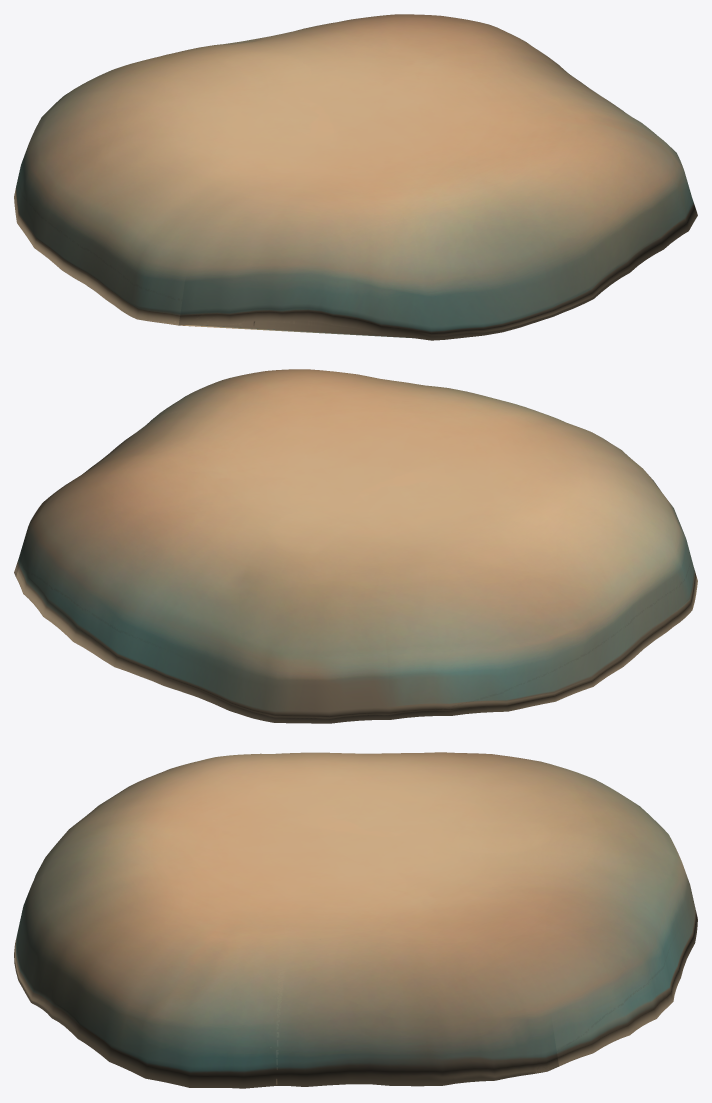
Rendered from Ada Updated.fbx.
3 renders of one model, top to bottom at view 1: azimuth 30°, elevation 25°; view 2: azimuth 150°, elevation 25°; view 3: azimuth 270°, elevation 25°, orthographic. The views are drawn at different scales.
Visible parts, largest first — view 1: aDA; view 2: aDA; view 3: aDA.
Part boxes in pixels (x1,y1,x2,y2): aDA: [14, 14, 697, 340]; aDA: [14, 369, 697, 723]; aDA: [14, 752, 697, 1088].
Size of the model in its own units: 2782 by 522 by 2819.
1 material, 1 textured.
